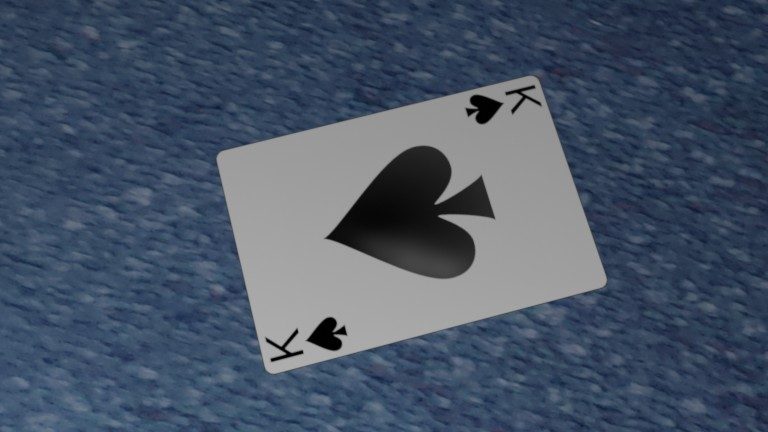king_of_spades: (262, 308, 353, 372), (459, 77, 545, 132)
